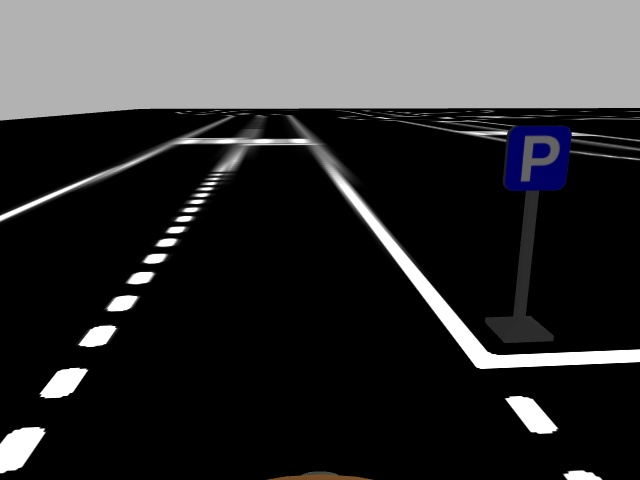parking: (502, 126, 570, 191)
